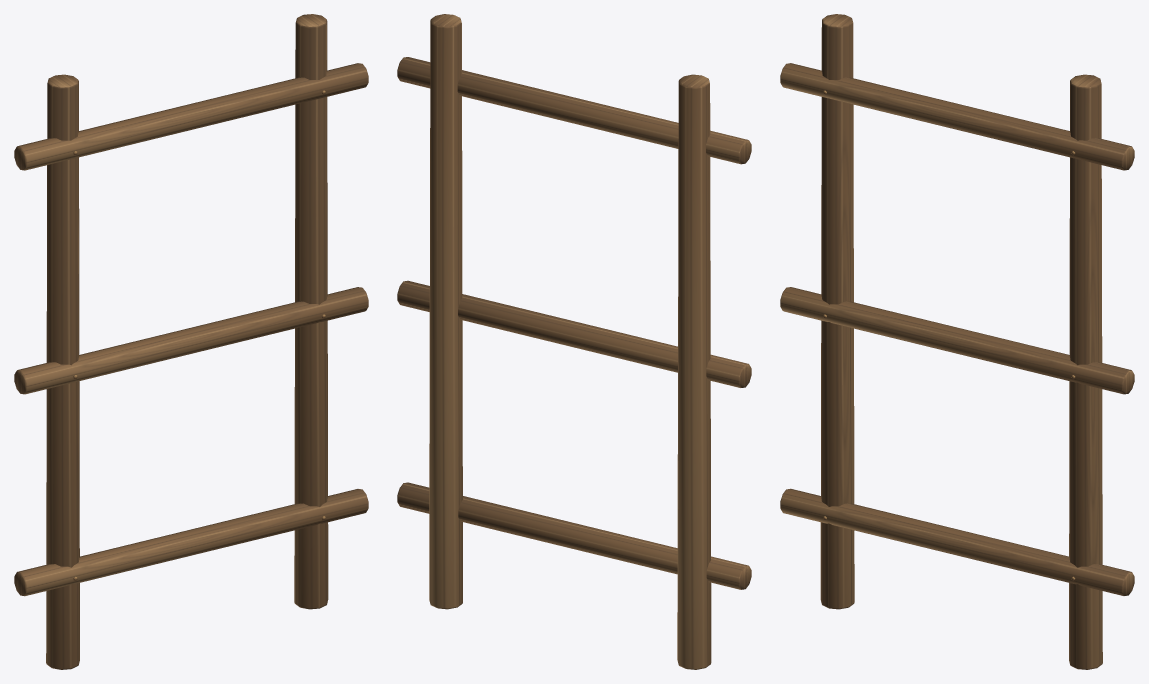
The model's file is NP_G03_Trellis_LOD1.fbx.
3 renders of one model, left to right at view 1: azimuth 30°, elevation 25°; view 2: azimuth 150°, elevation 25°; view 3: azimuth 330°, elevation 25°, orthographic.
Parts seen in each view (by area): view 1: NP_G03_Trellis.001; view 2: NP_G03_Trellis.001; view 3: NP_G03_Trellis.001.
Boxes of the visible parts, <box> form: NP_G03_Trellis.001: <box>14,14,368,669</box>; NP_G03_Trellis.001: <box>397,14,751,669</box>; NP_G03_Trellis.001: <box>780,14,1134,669</box>.
Size of the model in its own units: 65 by 105 by 7.11.
